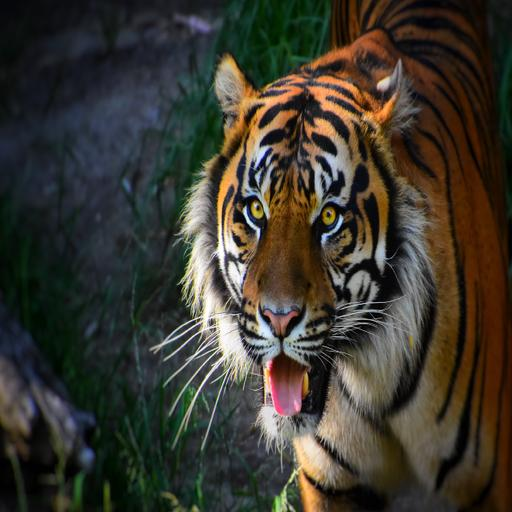Tiger: (135, 0, 512, 512)
